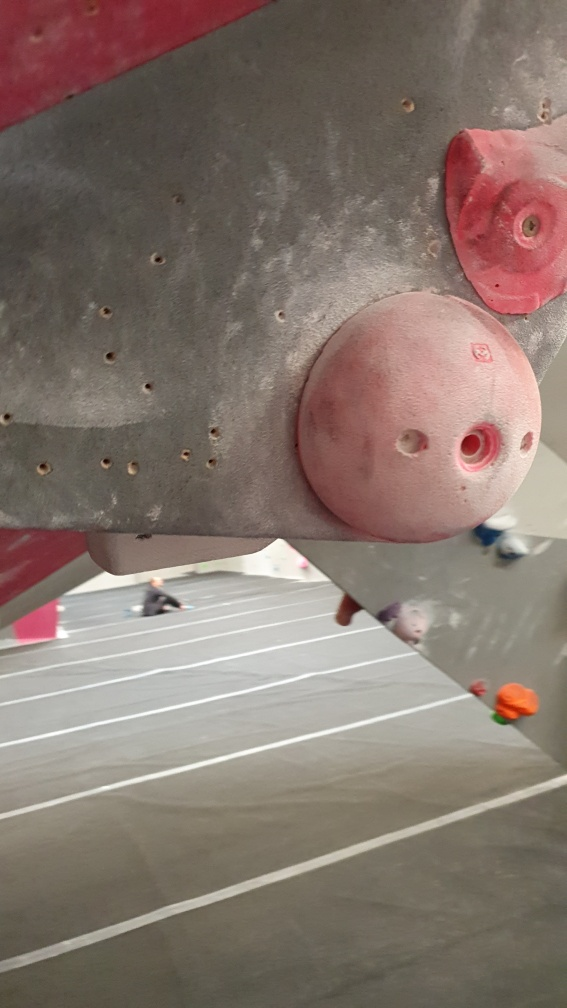Sloper: (295, 289, 547, 547)
